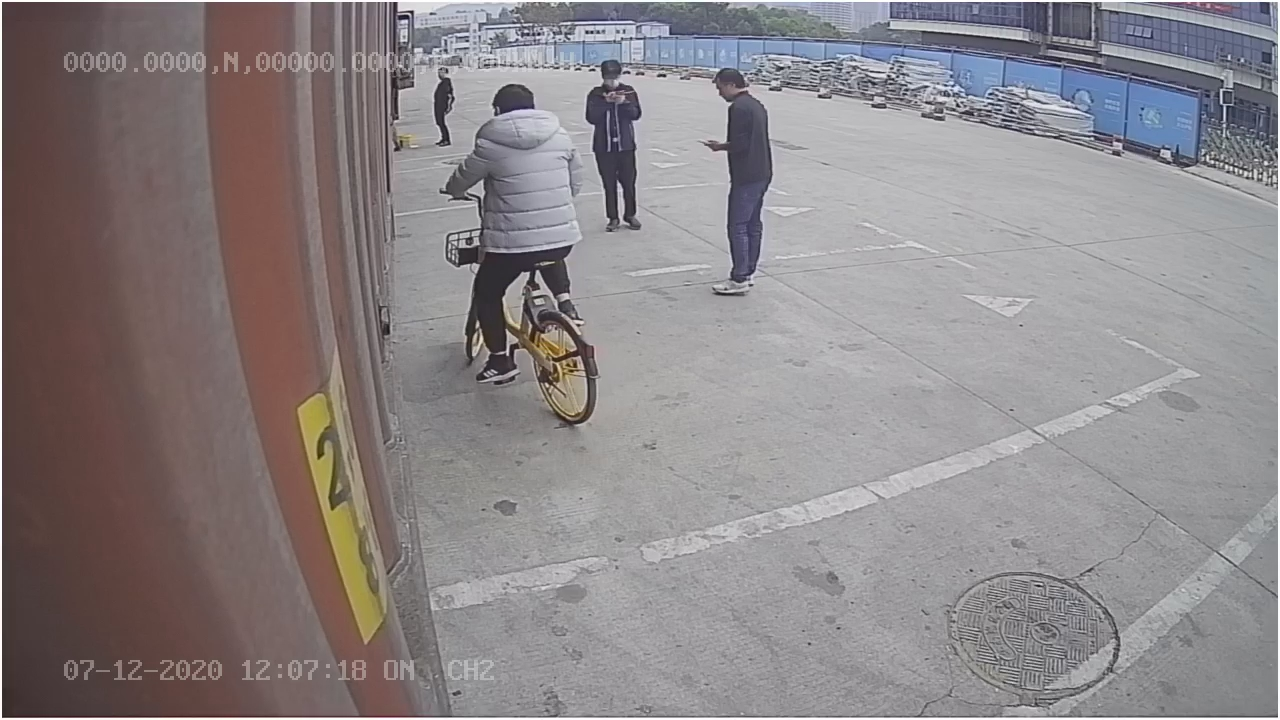person: (699, 65, 779, 298)
